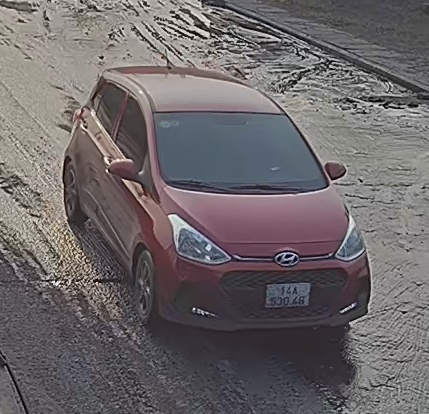vehicle plate: (262, 277, 311, 310)
